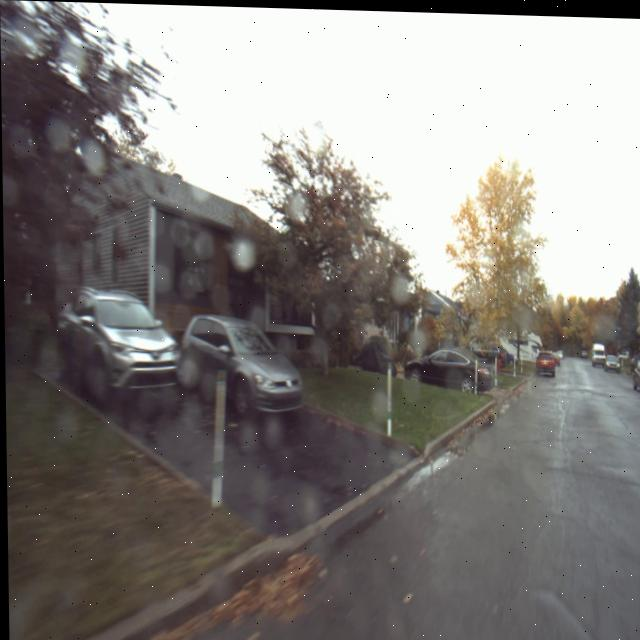car: (176, 302, 313, 427)
